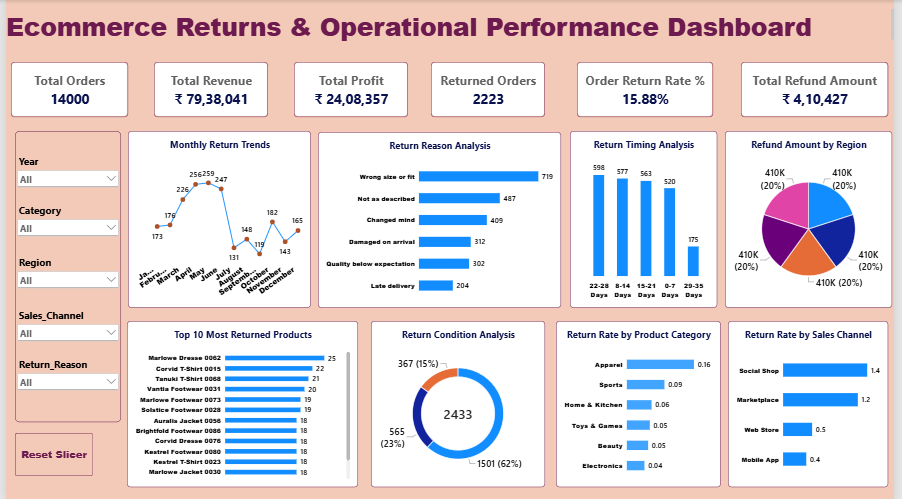

The dashboard page shown, as its layout file describes it:
{"tool":"powerbi","page":{"name":"Page 1","canvas":[1920,1080],"ordinal":0},"visuals":[{"type":"cardVisual","fields":{"Data":["fact_orders.Total Orders"]},"box":[10.8,133.9,252.7,118.8],"z":0,"group":"g1"},{"type":"lineChart","title":"Monthly Return Trends","fields":{"Category":["dim_date.Month"],"Y":["fact_returns.Returned Orders"]},"box":[263.5,283,395.3,382.3],"z":0},{"type":"cardVisual","fields":{"Data":["fact_returns.Returned Orders"]},"box":[918,133.9,246.2,118.8],"z":1000,"group":"g1"},{"type":"clusteredBarChart","title":"Return Reason Analysis","fields":{"Category":["fact_returns.return_reason"],"Y":["fact_returns.Total Return"]},"box":[673.9,285.1,524.9,380.2],"z":1000},{"type":"cardVisual","fields":{"Data":["fact_order_items.Total Profit"]},"box":[622.1,133.9,246.2,118.8],"z":2000,"group":"g1"},{"type":"clusteredBarChart","title":"Return Rate by Product Category","fields":{"Category":["dim_product.category"],"Y":["fact_returns.Item Return Rate %"]},"box":[1188,693.4,356.4,358.6],"z":2000},{"type":"cardVisual","fields":{"Data":["fact_orders.Total Revenue"]},"box":[319.7,133.9,246.2,118.8],"z":3000,"group":"g1"},{"type":"clusteredBarChart","title":"Top 10 Most Returned Products","fields":{"Category":["dim_product.product_name"],"Y":["fact_returns.Returned Item"]},"box":[261.4,693.4,499,358.6],"z":3000},{"type":"cardVisual","fields":{"Data":["fact_returns.Order Return Rate %"]},"box":[1233.4,133.9,293.8,118.8],"z":4000,"group":"g1"},{"type":"donutChart","title":"Return Condition Analysis","fields":{"Category":["fact_returns.item_condition"],"Y":["fact_returns.Total Return"]},"box":[788.4,693.4,375.8,358.6],"z":4000},{"type":"cardVisual","fields":{"Data":["fact_returns.Total Refung Amount"]},"box":[1587.6,133.9,317.5,118.8],"z":5000,"group":"g1"},{"type":"clusteredBarChart","title":"Return Rate by Sales Channel","fields":{"Category":["fact_orders.sales_channel"],"Y":["fact_returns.Order Return Rate %"]},"box":[1559.5,693.4,345.6,358.6],"z":5000},{"type":"clusteredColumnChart","title":"Return Timing Analysis","fields":{"Category":["fact_returns.return_days_group"],"Y":["fact_returns.Total Return"]},"box":[1218.2,283,317.5,382.3],"z":6000},{"type":"shape","box":[19.4,283,229,628.6],"z":7000},{"type":"slicer","fields":{"Values":["dim_date.Year"]},"box":[19.4,332.6,229,101.5],"z":8000},{"type":"slicer","fields":{"Values":["dim_product.category"]},"box":[19.4,438.5,229,101.5],"z":9000},{"type":"pieChart","title":"Refund Amount by Region","fields":{"Category":["dim_location.shipping_region"],"Y":["fact_returns.Total Refund Amount"]},"box":[1553,283,360.7,382.3],"z":10000},{"type":"group","id":"g1","title":"Group 1","box":[10.8,133.9,1894.3,118.8],"z":11000},{"type":"slicer","fields":{"Values":["dim_location.region"]},"box":[19.4,550.8,229,101.5],"z":12000},{"type":"slicer","fields":{"Values":["fact_orders.sales_channel"]},"box":[19.4,665.3,229,101.5],"z":13000},{"type":"slicer","fields":{"Values":["fact_returns.return_reason"]},"box":[19.4,771.1,229,79.9],"z":14000},{"type":"textbox","box":[0,19.4,1920.2,71.3],"z":15000},{"type":"actionButton","box":[19.4,935.3,168.5,92.9],"z":16000}]}

Visuals, with their boxes in screenshot pixels (x1, y1, x2, y2), scaled from the page's 1920x1080 canvas onto the 902x499 screenshot:
cardVisual - fact_orders.Total Orders: detection(5, 62, 124, 117)
"Monthly Return Trends" lineChart: detection(124, 131, 309, 307)
cardVisual - fact_returns.Returned Orders: detection(431, 62, 547, 117)
"Return Reason Analysis" clusteredBarChart: detection(317, 132, 563, 307)
cardVisual - fact_order_items.Total Profit: detection(292, 62, 408, 117)
"Return Rate by Product Category" clusteredBarChart: detection(558, 320, 726, 486)
cardVisual - fact_orders.Total Revenue: detection(150, 62, 266, 117)
"Top 10 Most Returned Products" clusteredBarChart: detection(123, 320, 357, 486)
cardVisual - fact_returns.Order Return Rate %: detection(579, 62, 717, 117)
"Return Condition Analysis" donutChart: detection(370, 320, 547, 486)
cardVisual - fact_returns.Total Refung Amount: detection(746, 62, 895, 117)
"Return Rate by Sales Channel" clusteredBarChart: detection(733, 320, 895, 486)
"Return Timing Analysis" clusteredColumnChart: detection(572, 131, 721, 307)
shape: detection(9, 131, 117, 421)
slicer - dim_date.Year: detection(9, 154, 117, 201)
slicer - dim_product.category: detection(9, 203, 117, 250)
"Refund Amount by Region" pieChart: detection(730, 131, 899, 307)
"Group 1" group: detection(5, 62, 895, 117)
slicer - dim_location.region: detection(9, 254, 117, 301)
slicer - fact_orders.sales_channel: detection(9, 307, 117, 354)
slicer - fact_returns.return_reason: detection(9, 356, 117, 393)
textbox: detection(0, 9, 901, 42)
actionButton: detection(9, 432, 88, 475)
